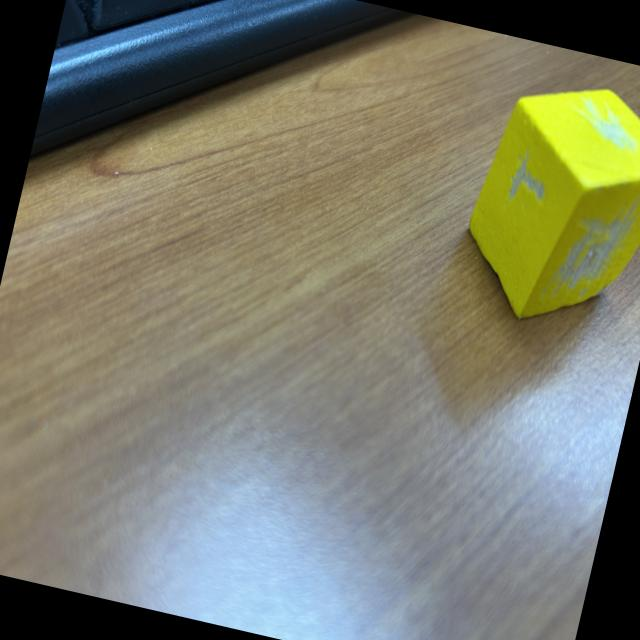broken: (449, 65, 640, 348)
